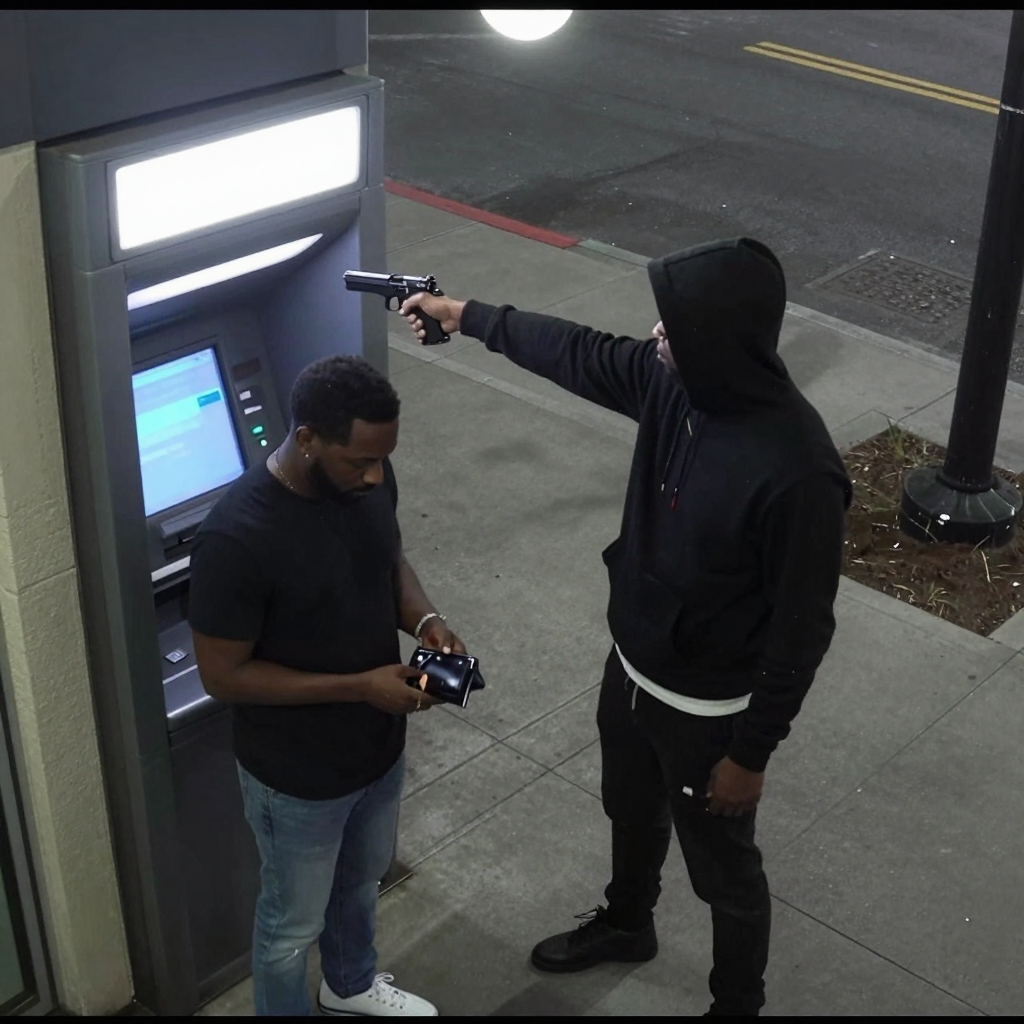Robbery: (398, 235, 854, 1015), (187, 353, 471, 1017)
Shooting: (342, 270, 450, 345)
